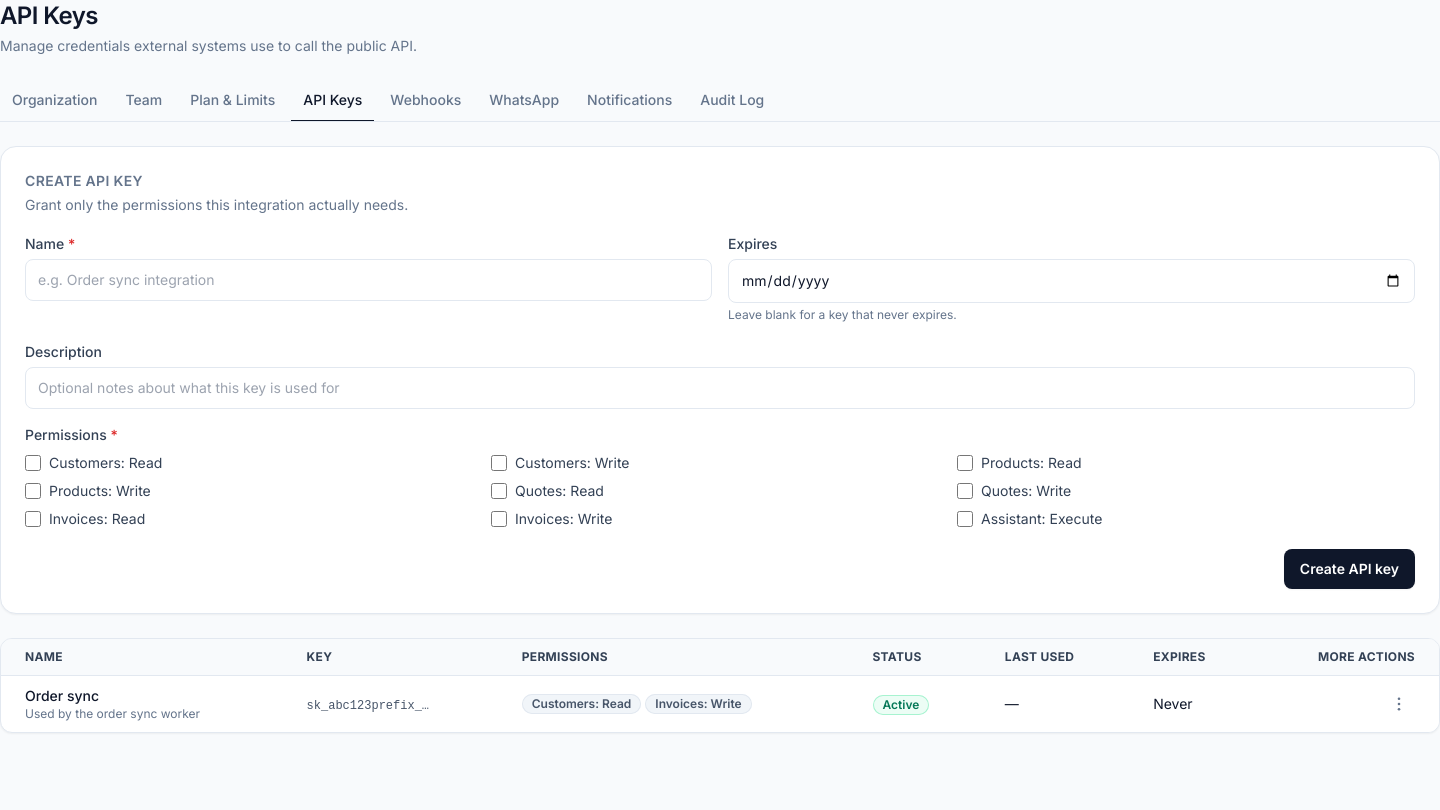
Test: ApiKeysPage › rotates a key after confirmation and shows the new secret once
The width and height of the screenshot is (1440, 810).
Expected: the text "Order sync" is shown, top-left (25, 687), bottom-right (99, 704)
What coordinates should you click on to do the following:
click the button named "More actions"
I would click on:
 (1399, 704)
Its box is top-left (1383, 688), bottom-right (1415, 720).
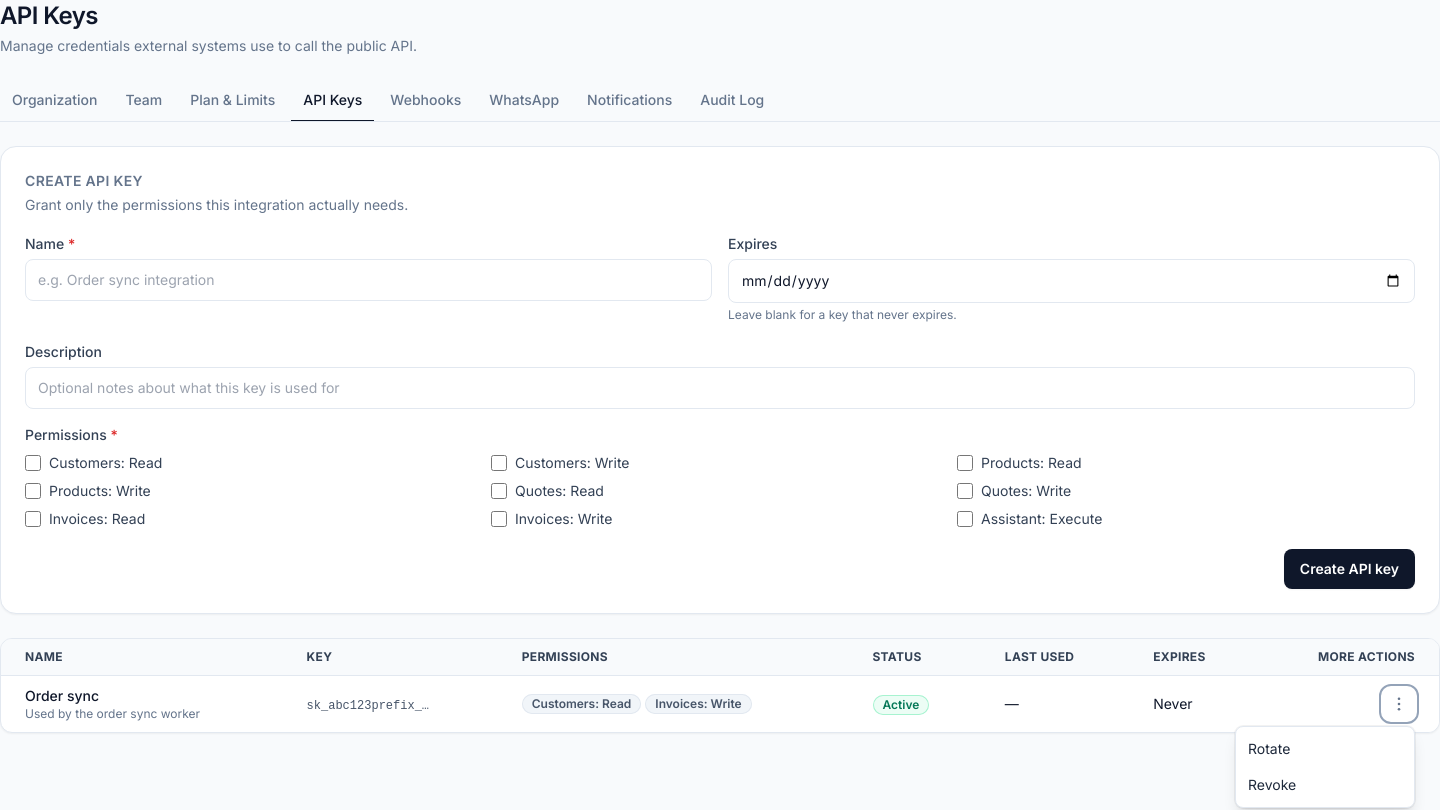
What coordinates should you click on to do the following:
click the menu item "Rotate"
I would click on:
 (1325, 749)
Its box is top-left (1236, 731), bottom-right (1414, 767).
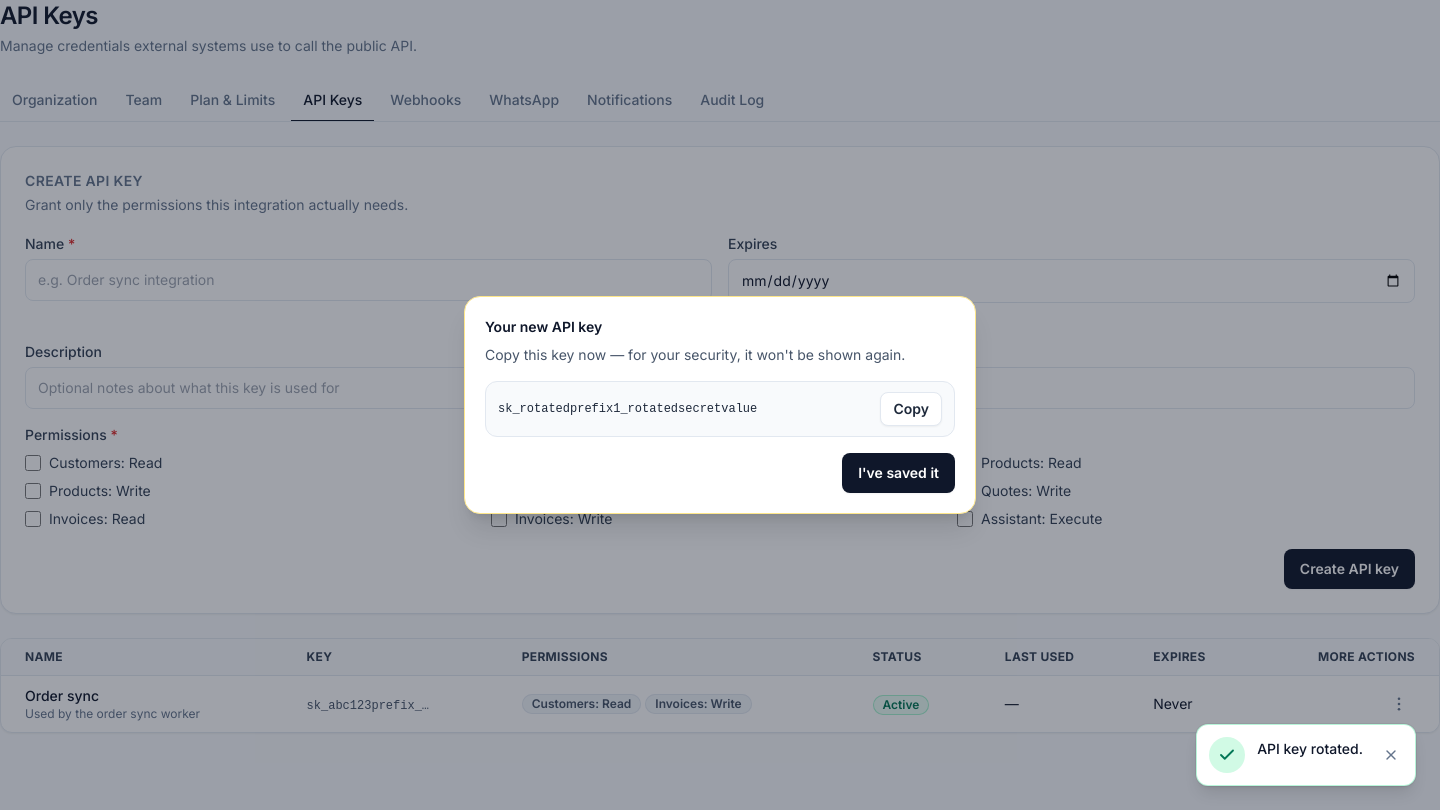
Now the text "sk_rotatedprefix1_rotatedsecretvalue" is shown, box top-left (498, 402), bottom-right (757, 416)
